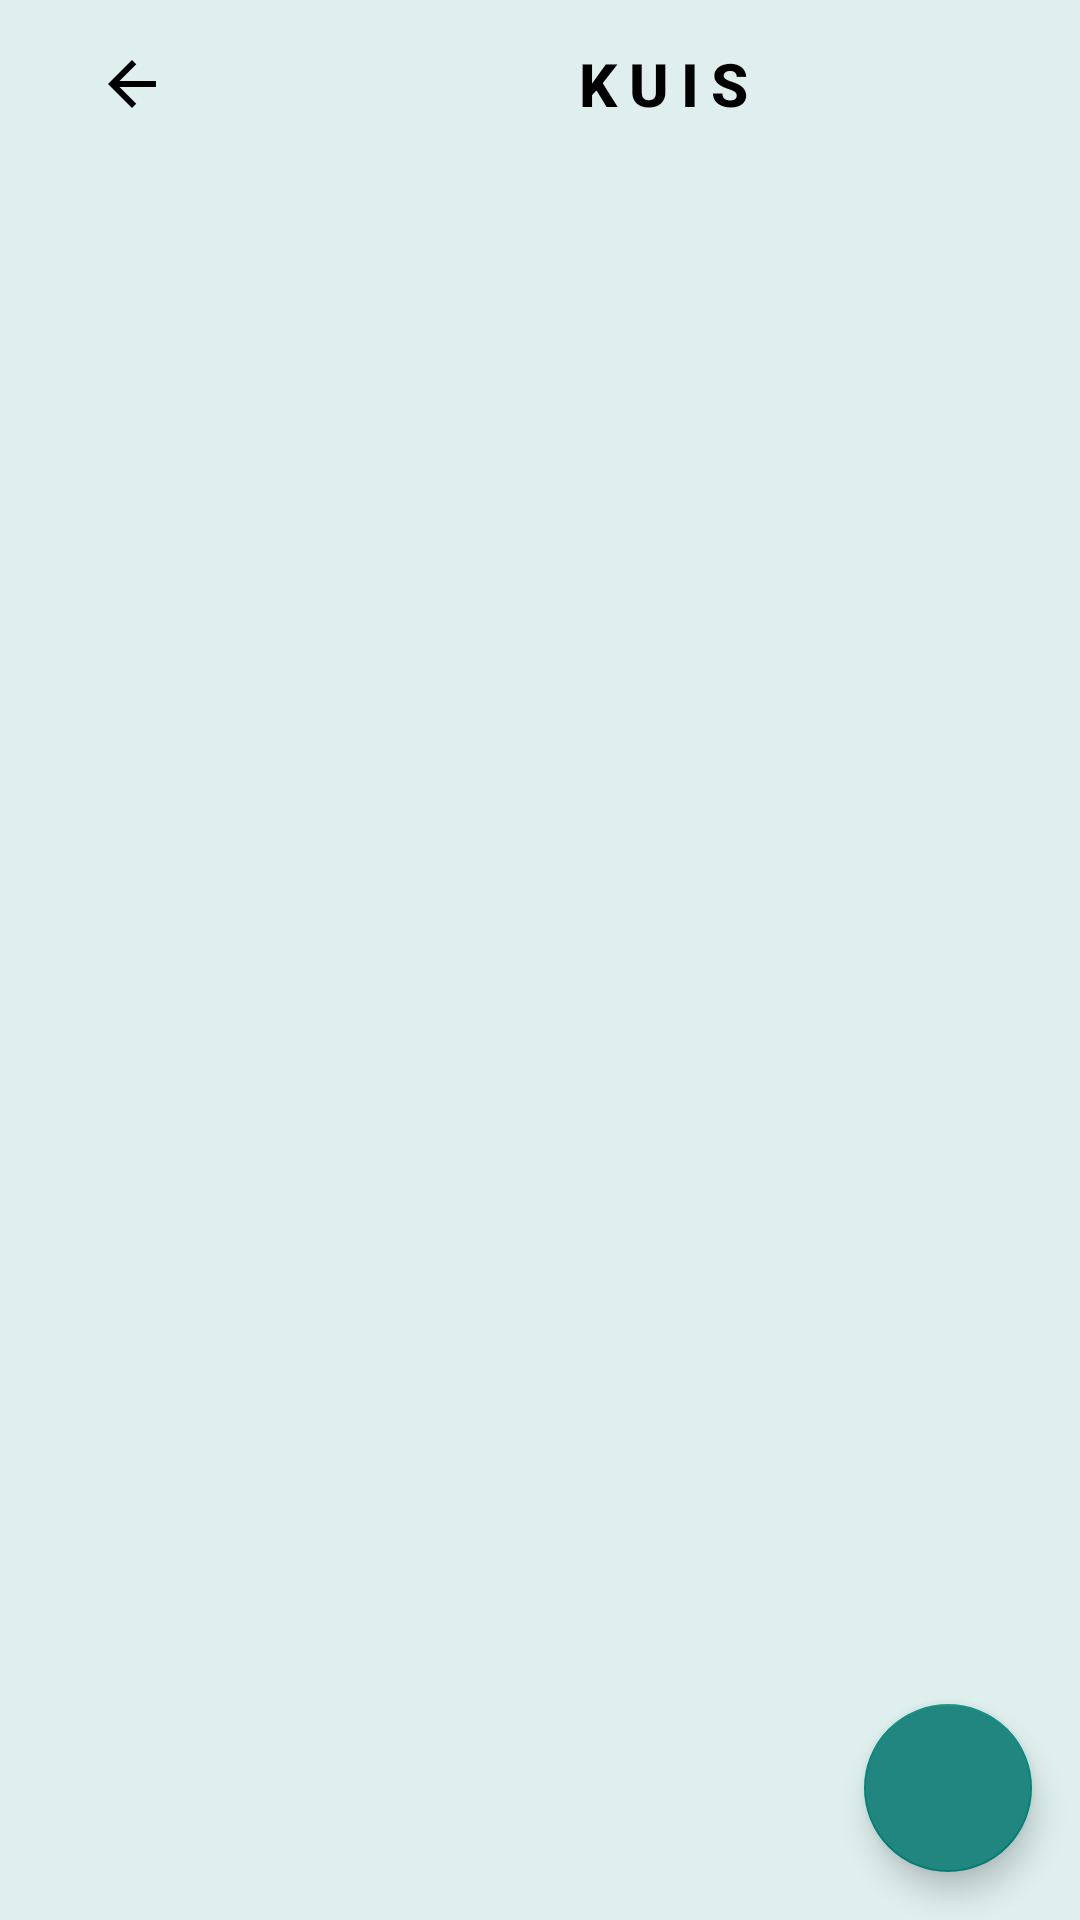

Icons on this 1080*1920 Android screen, each with its box as (x1, y1, x2, y2):
arrow back: (108, 60, 156, 108)
